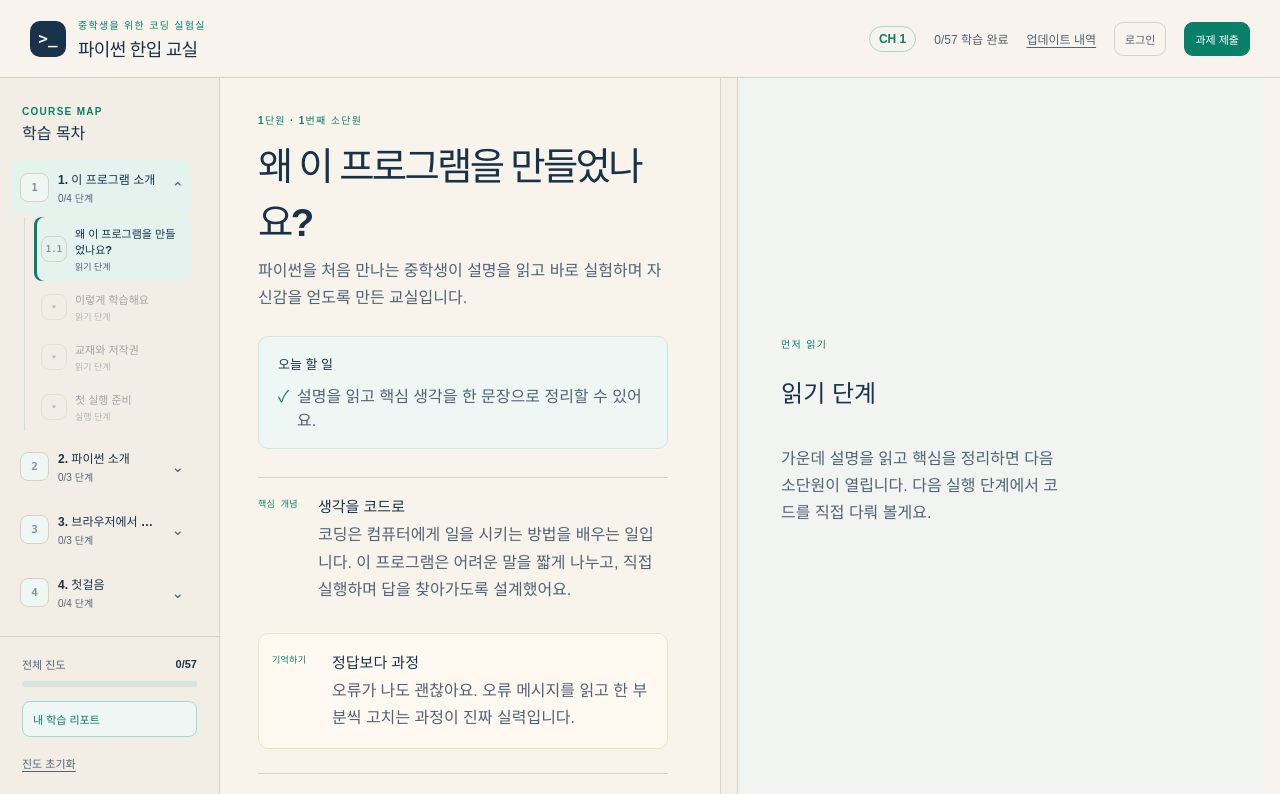
Test: App profile and submission boundary › returns to the report after selecting a saved student from the registration route
The image size is (1280, 794).
Click the button "내 학습 리포트" at (110, 719), box top-left (22, 701), bottom-right (197, 737)
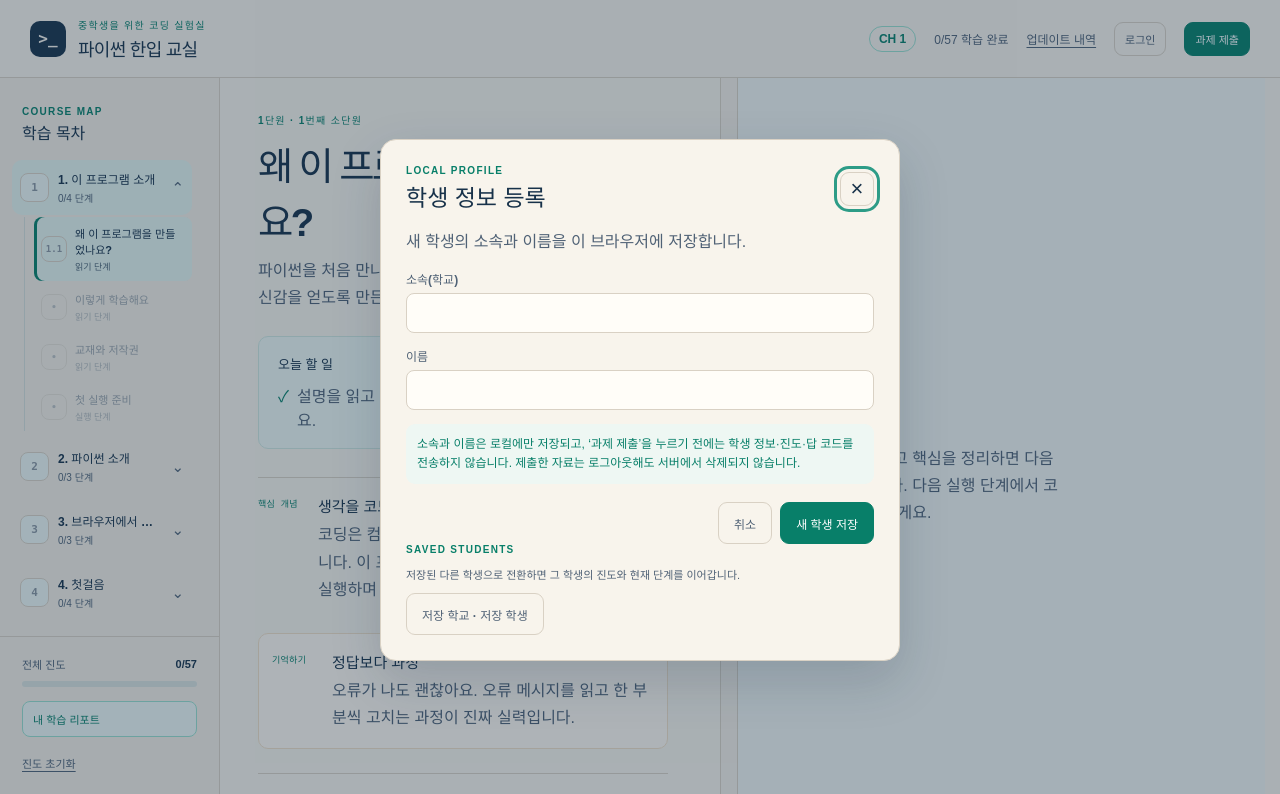
Click the button "저장 학교 · 저장 학생" at (475, 614), box top-left (406, 594), bottom-right (544, 636)
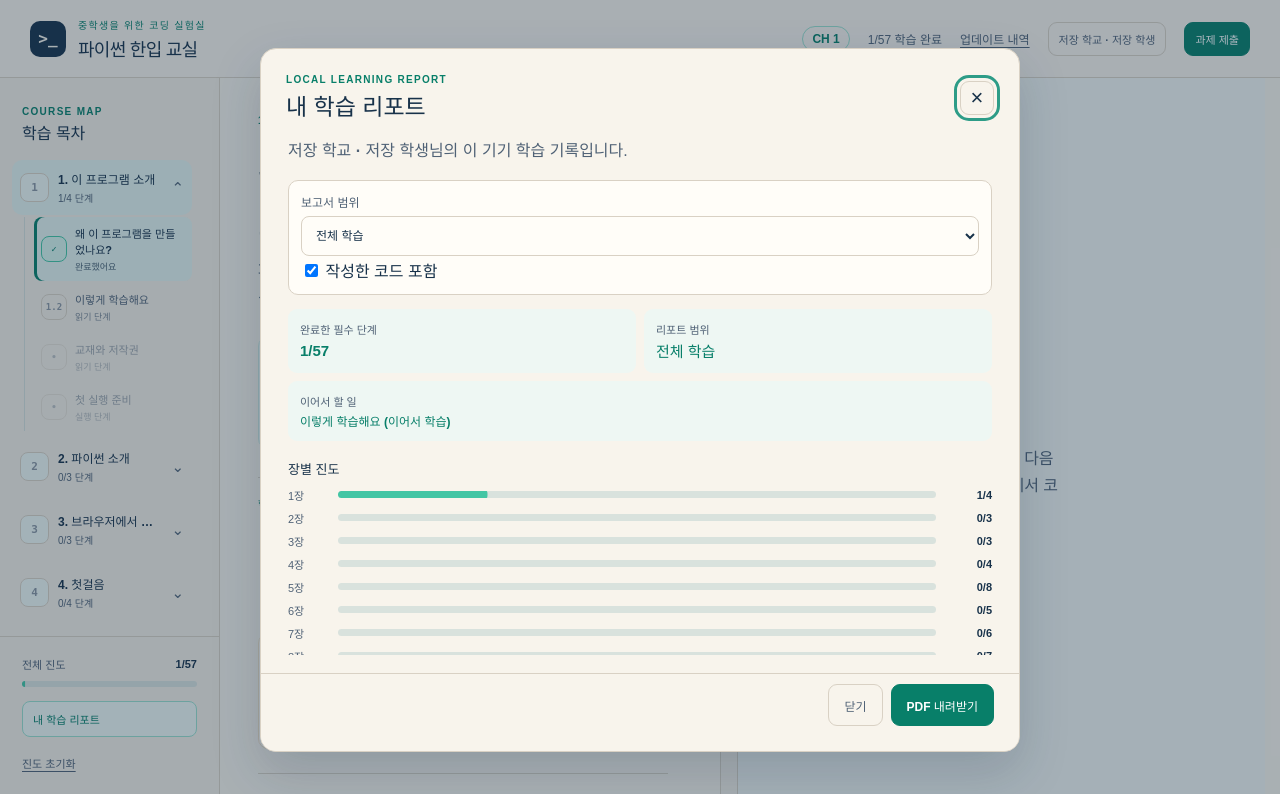
Now the dialog "내 학습 리포트" is shown, box top-left (260, 48), bottom-right (1020, 752)
Now the text "저장 학교 · 저장 학생" is shown, box top-left (288, 142), bottom-right (429, 159)
